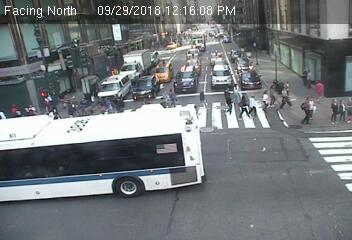car: (1, 110, 206, 201), (119, 46, 151, 80), (95, 72, 129, 102), (132, 76, 158, 101), (173, 68, 196, 93), (212, 64, 234, 89), (240, 68, 261, 90), (154, 62, 170, 82), (208, 49, 224, 64), (186, 58, 202, 72), (229, 48, 245, 60), (187, 47, 200, 60)
